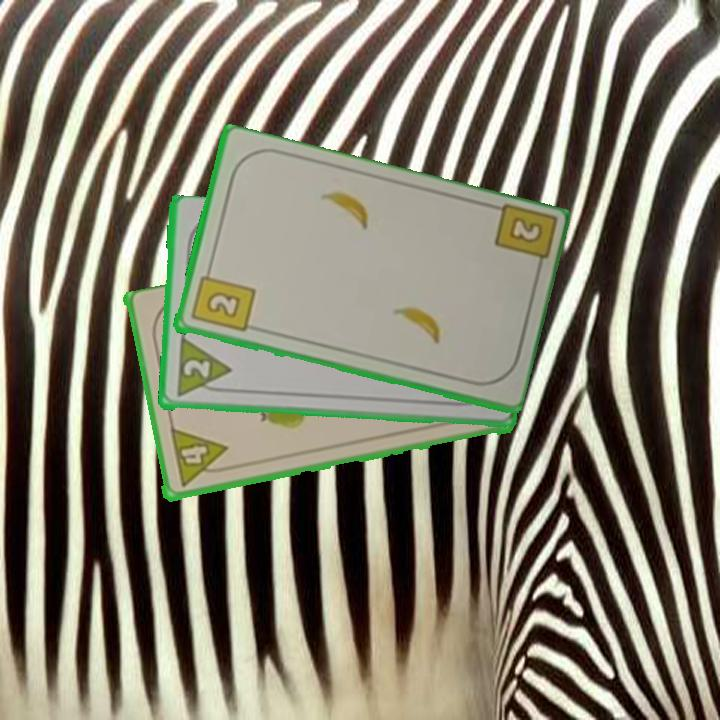2b: (187, 264, 257, 336), (490, 202, 556, 278)
2p: (180, 356, 213, 381)
4p: (167, 425, 232, 491)
